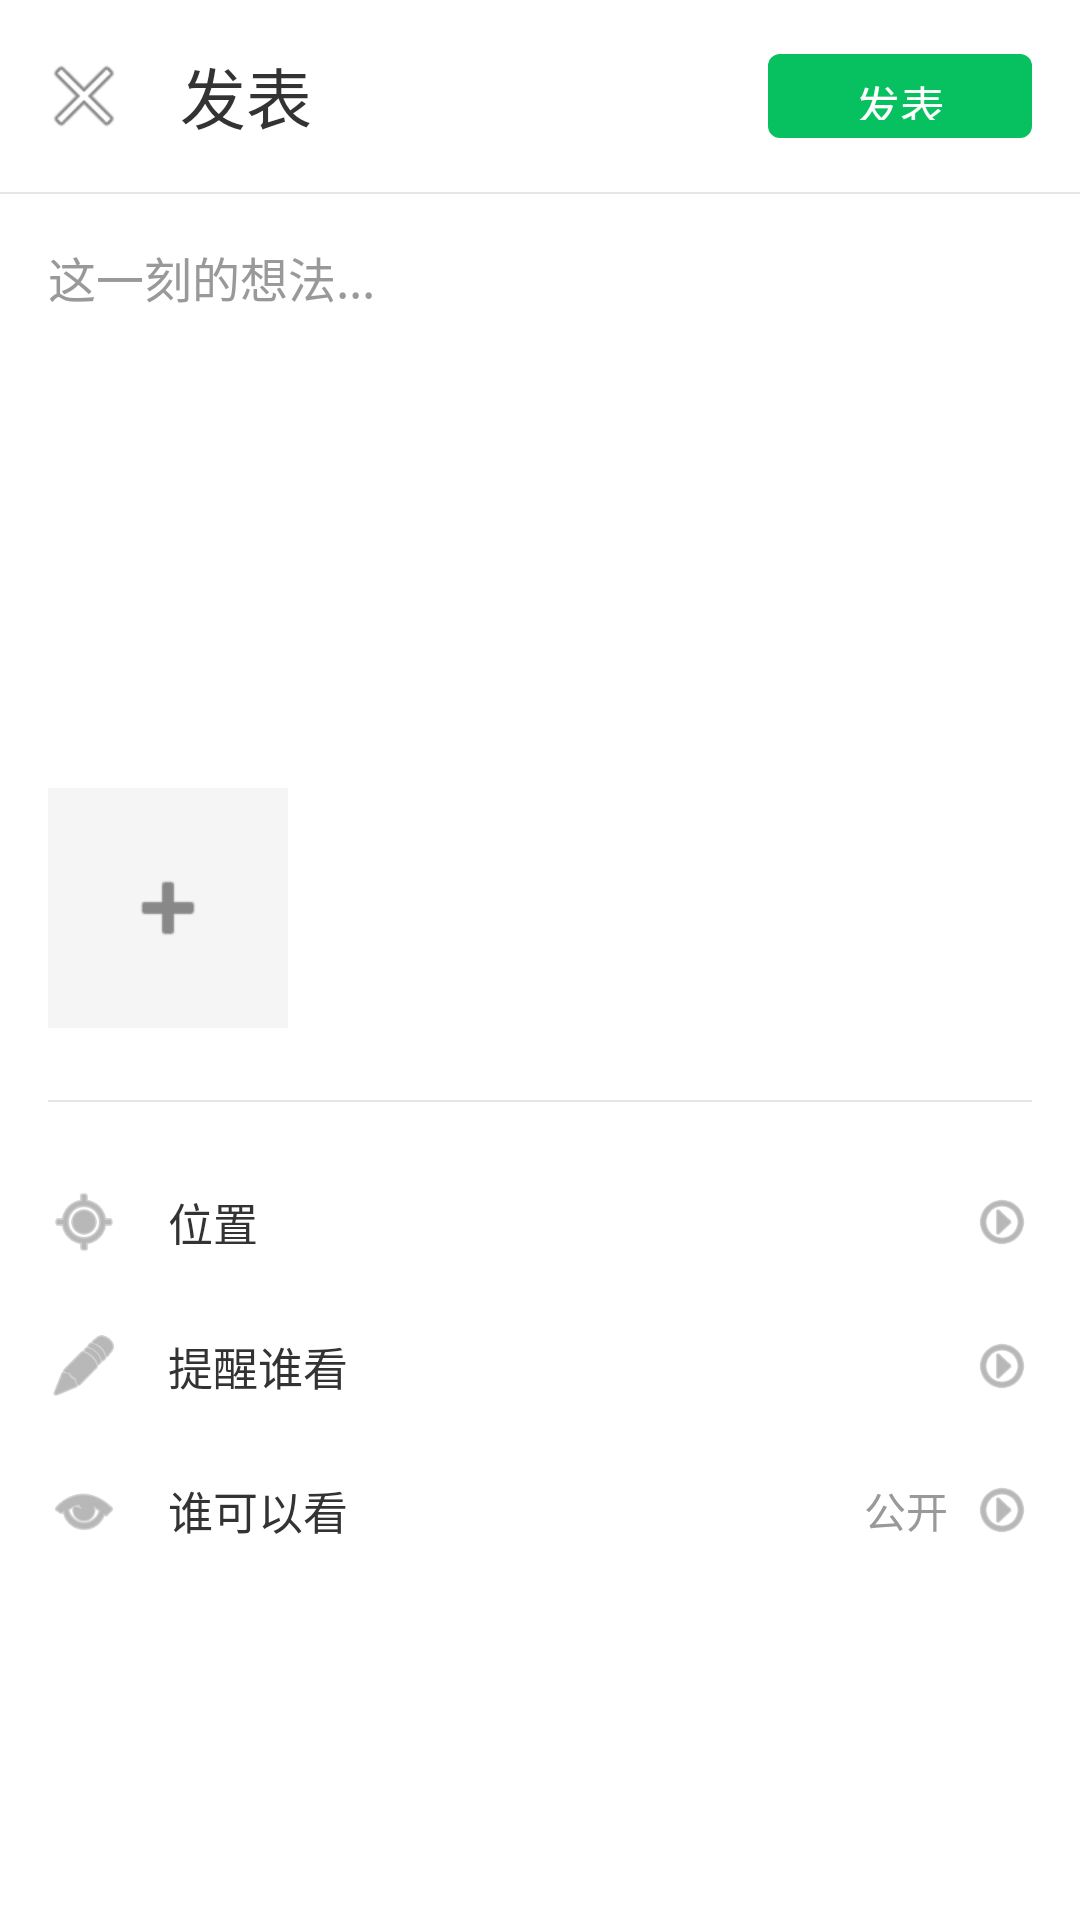

Where to tap for icons on this 1080px×1920px app screen, as [x,y]:
location: [84,1222]
visible: [84,1512]
添加图片: [168,908]
